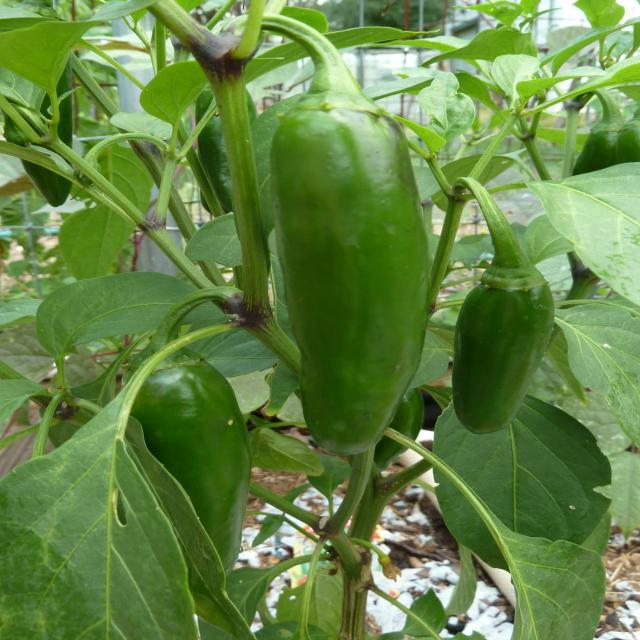aji: (257, 89, 452, 437), (107, 347, 273, 536)
